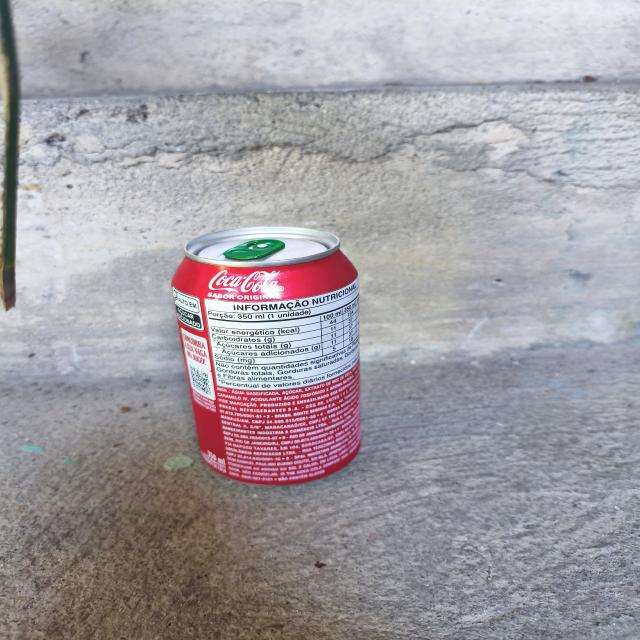Coca Cola: (176, 210, 392, 479)
